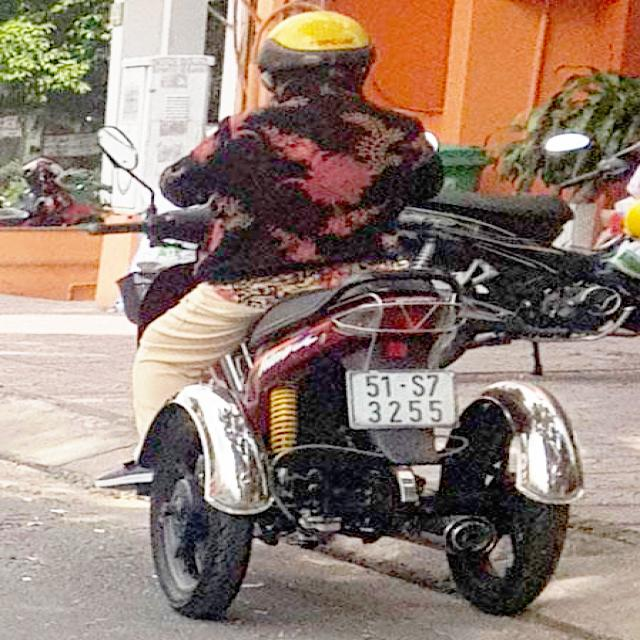license_plate: (350, 370, 461, 430)
